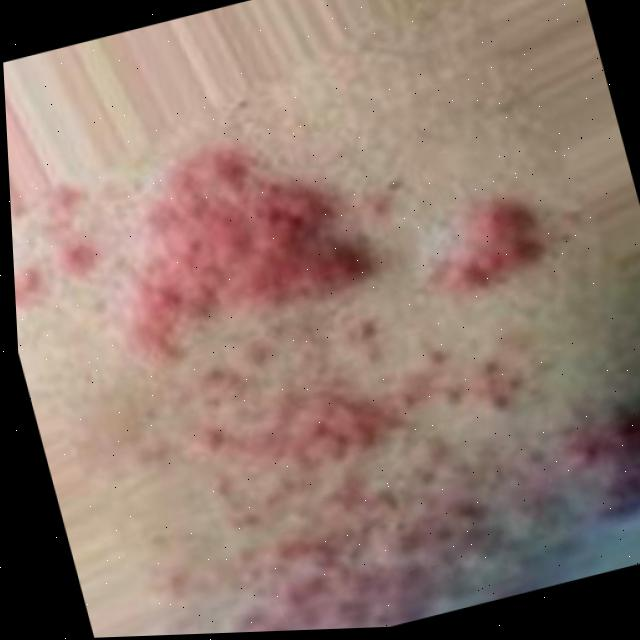Shingles: (4, 56, 640, 640)
